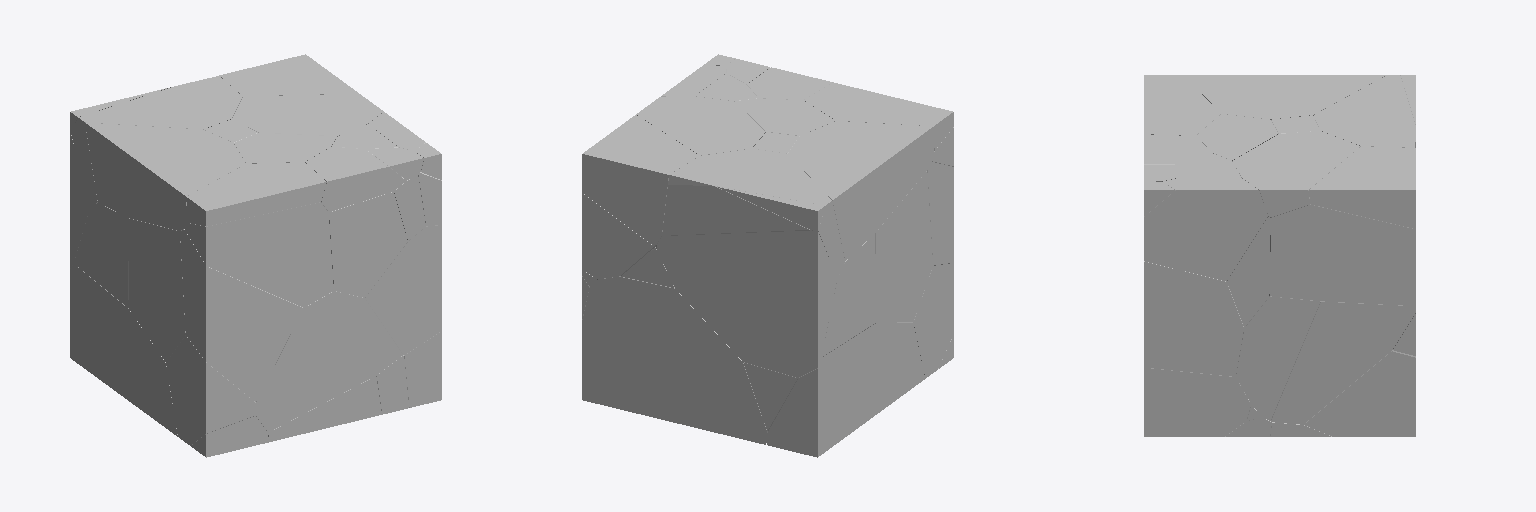
Rendered from BrokenCube.obj.
3 views of the same model, side by side, from view 1: azimuth 30°, elevation 25°; view 2: azimuth 150°, elevation 25°; view 3: azimuth 270°, elevation 25° (orthographic).
Visible parts, largest first — view 1: Cube_cell.034, Cube_cell.022, Cube_cell.019, Cube_cell.017, Cube_cell.020, Cube_cell.033, Cube_cell.003, Cube_cell.021, Cube_cell.036, Cube_cell.010, Cube_cell.035, Cube_cell (+14 smaller); view 2: Cube_cell.038, Cube_cell.032, Cube_cell.020, Cube_cell.034, Cube_cell.021, Cube_cell.023, Cube_cell.003, Cube_cell, Cube_cell.036, Cube_cell.028, Cube_cell.015, Cube_cell.035 (+10 smaller); view 3: Cube_cell.015, Cube_cell.012, Cube_cell.033, Cube_cell.030, Cube_cell.031, Cube_cell.023, Cube_cell.038, Cube_cell.034, Cube_cell, Cube_cell.014, Cube_cell.021, Cube_cell.036 (+9 smaller).
Part boxes in pixels (x1,y1,x2,y2): Cube_cell.034: (85,123,245,230); Cube_cell.022: (256,291,402,432); Cube_cell.019: (180,229,303,401); Cube_cell.017: (185,202,333,307); Cube_cell.020: (70,264,177,436); Cube_cell.033: (365,225,441,354); Cube_cell.003: (128,218,185,361); Cube_cell.021: (71,76,242,207); Cube_cell.036: (186,162,326,226); Cube_cell.010: (329,192,407,297); Cube_cell.035: (166,336,255,445); Cube_cell: (232,94,383,135); Cube_cell.038: (582,277,766,444); Cube_cell.032: (656,230,836,377); Cube_cell.020: (767,322,924,457); Cube_cell.034: (788,121,933,260); Cube_cell.021: (662,149,844,278); Cube_cell.023: (582,115,699,246); Cube_cell.003: (876,171,932,322); Cube_cell: (636,96,765,155); Cube_cell.036: (804,82,953,150); Cube_cell.028: (821,233,875,357); Cube_cell.015: (582,193,654,278); Cube_cell.035: (913,263,953,378); Cube_cell.015: (1269,205,1415,305); Cube_cell.012: (1144,178,1267,281); Cube_cell.033: (1144,261,1243,376); Cube_cell.030: (1271,296,1415,424); Cube_cell.031: (1144,368,1250,436); Cube_cell.023: (1309,146,1415,228); Cube_cell.038: (1304,350,1415,436); Cube_cell.034: (1184,75,1385,119); Cube_cell: (1232,131,1360,217); Cube_cell.014: (1236,296,1319,420); Cube_cell.021: (1314,75,1415,147); Cube_cell.036: (1144,75,1220,135).
Size of the model in its own units: 2 by 2 by 2.